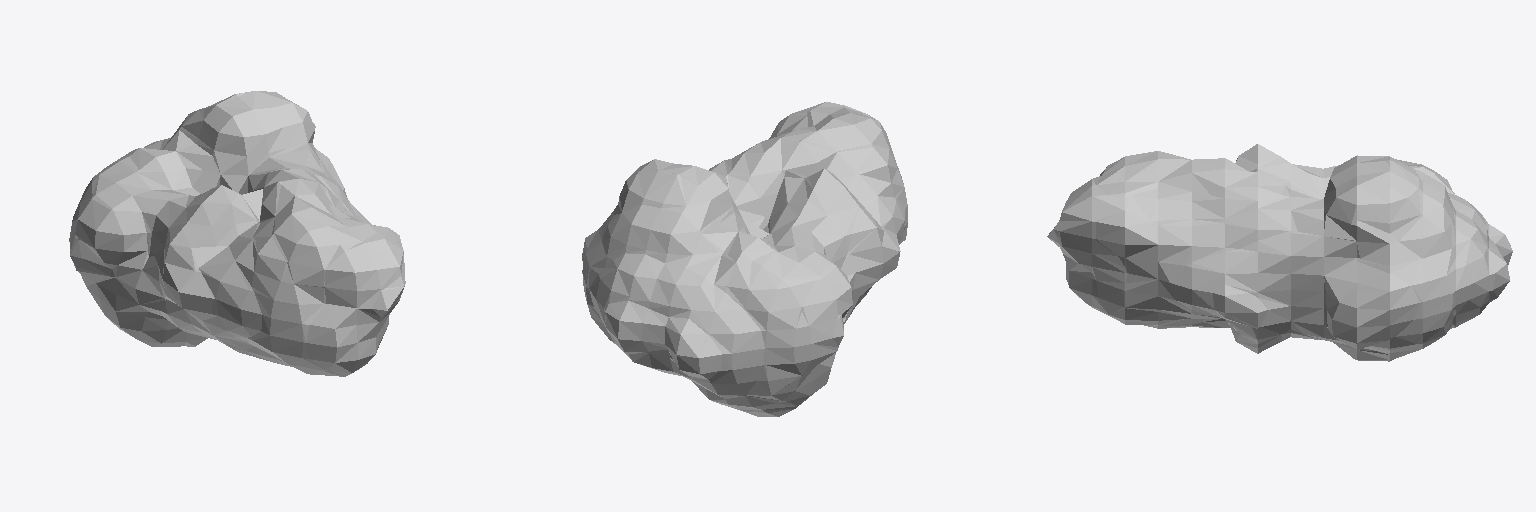
File: 5mkk_mb_cms.obj
3 renders of one model, left to right at view 1: azimuth 30°, elevation 25°; view 2: azimuth 150°, elevation 25°; view 3: azimuth 270°, elevation 25°, orthographic.
Bounding box in the file's own units: 93.17 × 76.92 × 143.